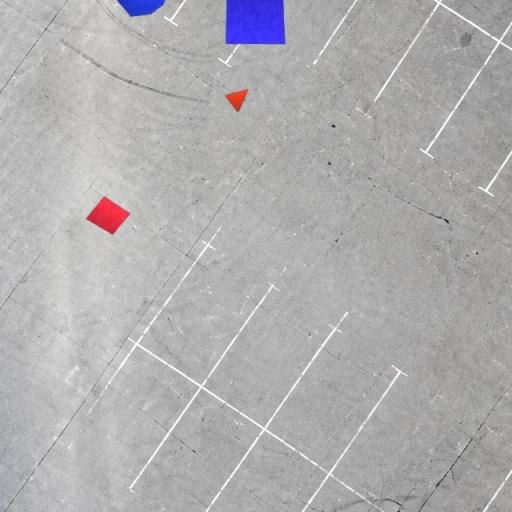BLUE_SQUARE: (224, 0, 286, 45)
RED_SQUARE: (86, 195, 130, 235)
